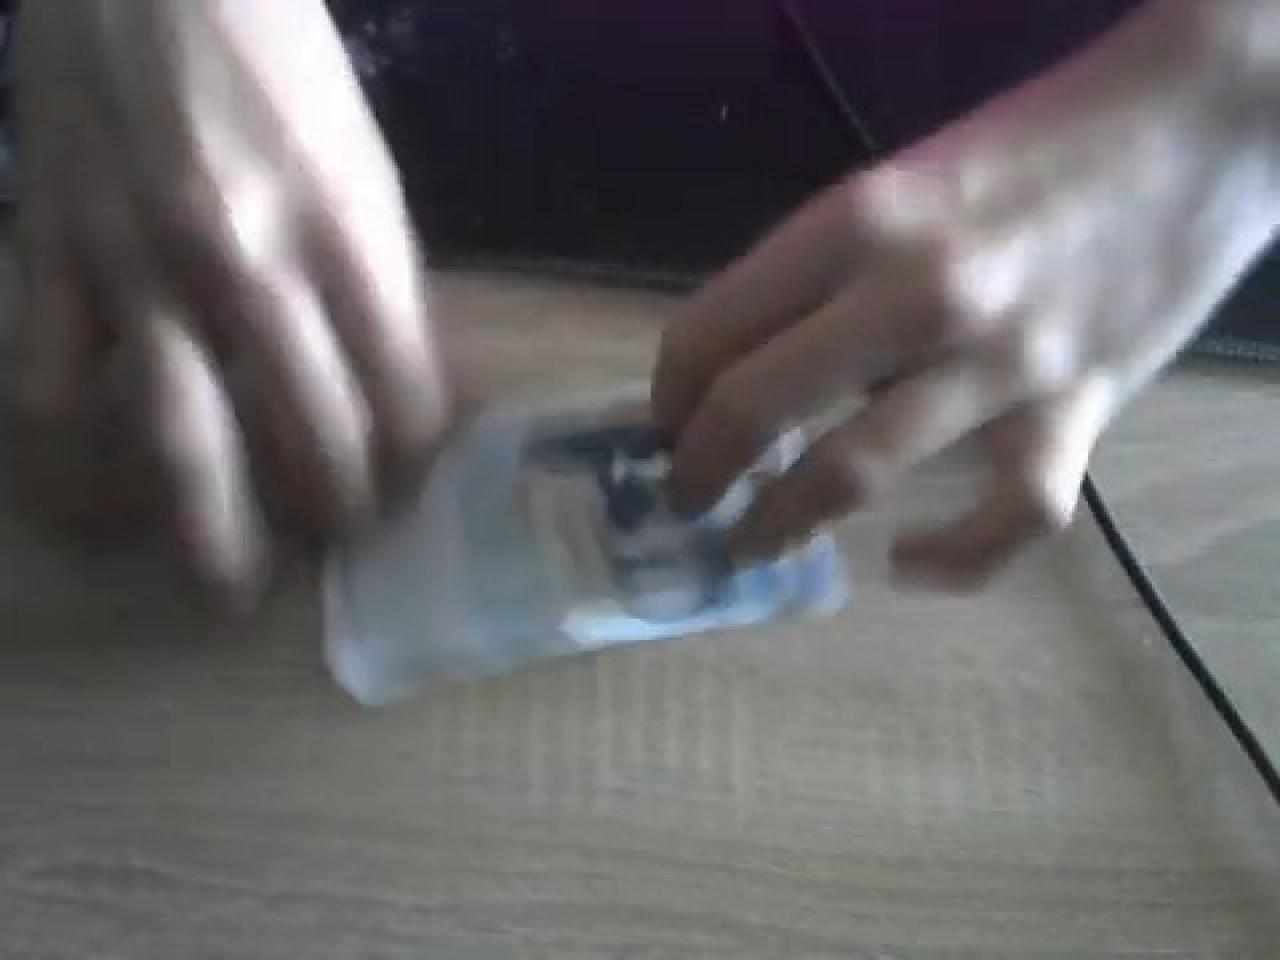20leva: (314, 384, 851, 709)
